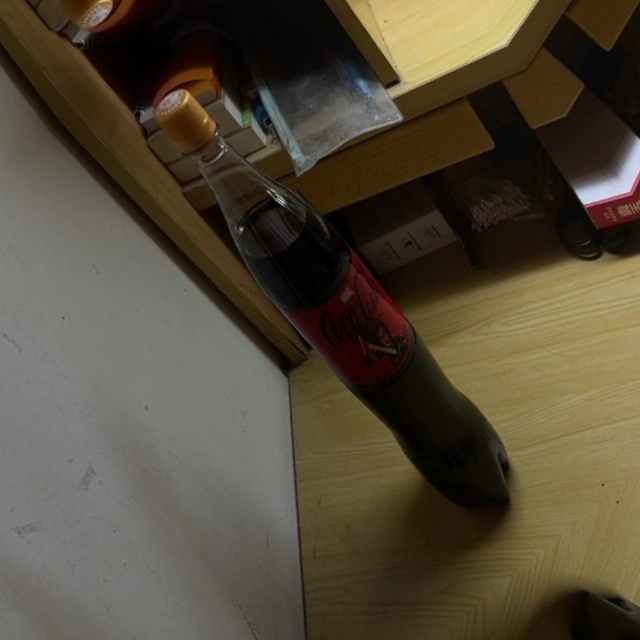Coca-Cola: (124, 64, 540, 535)
